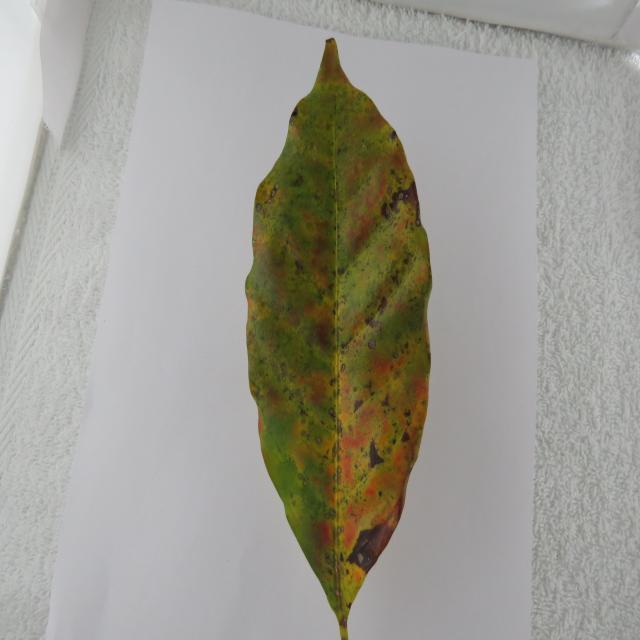DeficienciaNutricional-Fosforo: (245, 38, 431, 638)
